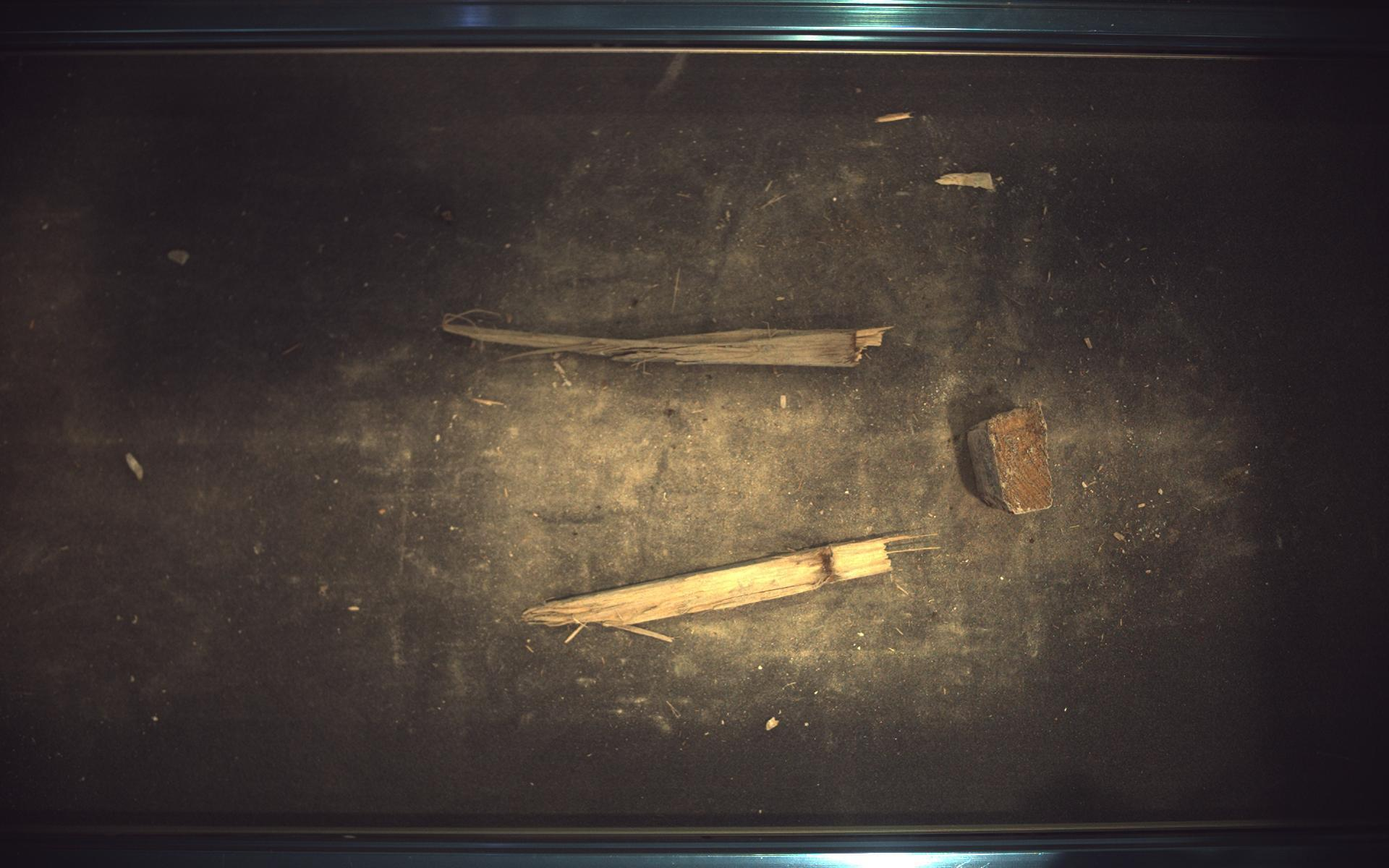wood: (524, 535, 941, 644), (969, 401, 1055, 515)
